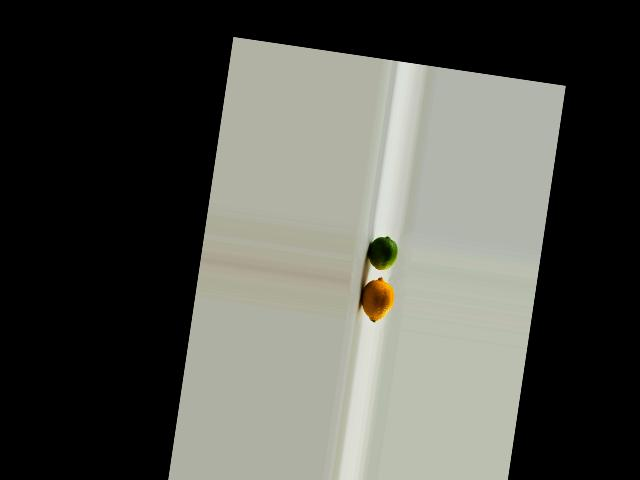lemon: (357, 277, 398, 324)
